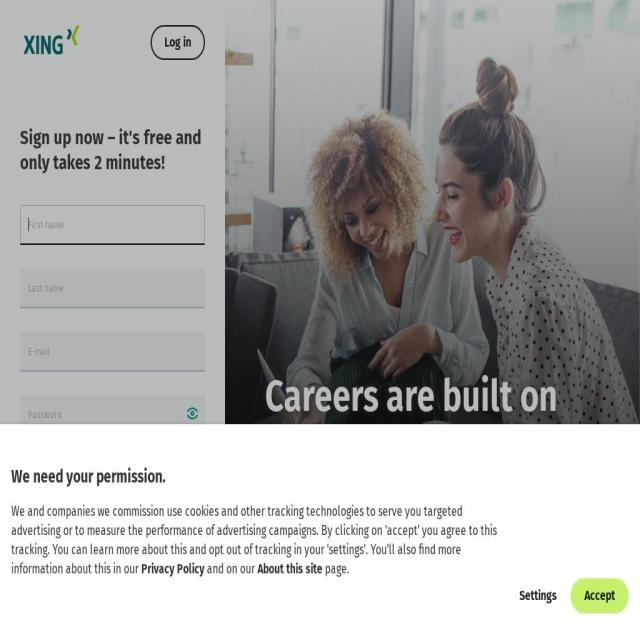login-option: (150, 25, 206, 63)
sign-up-form: (11, 104, 222, 428)
